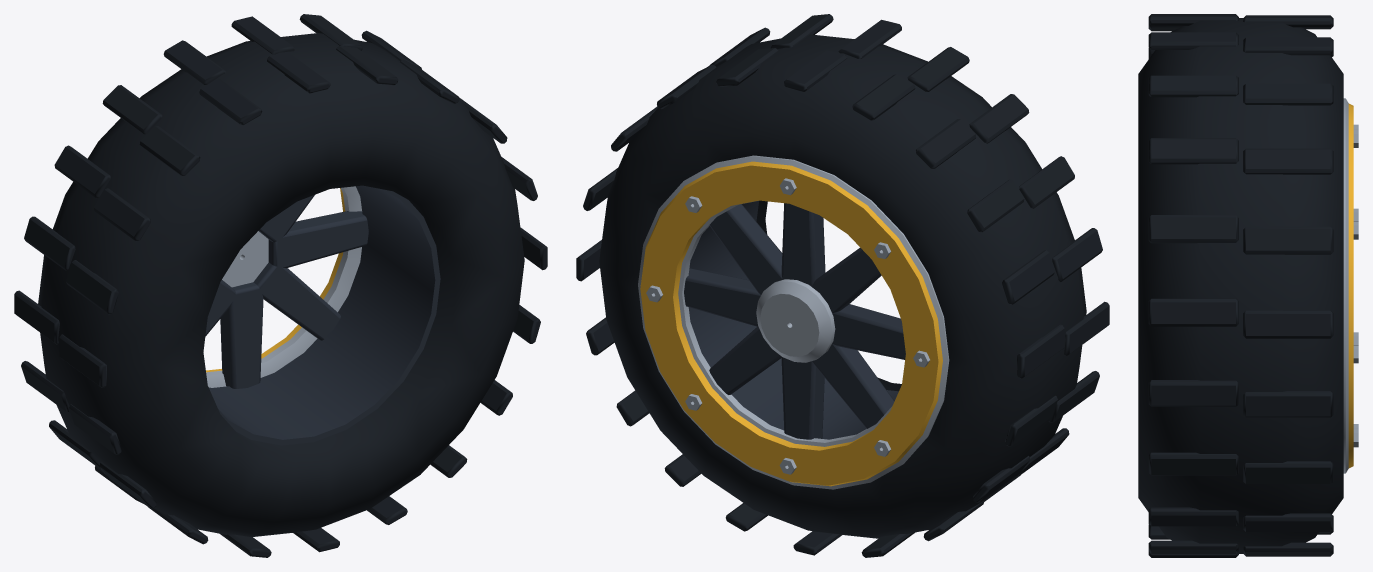
3 views of the same model, side by side, from view 1: azimuth 30°, elevation 25°; view 2: azimuth 150°, elevation 25°; view 3: azimuth 270°, elevation 25° (orthographic). The views are drawn at different scales.
Visible parts, largest first — view 1: W10_Tire, W10_Rim_barrel, W10_Beadlock_arm_6, W10_Beadlock_arm_0, W10_Beadlock_arm_7, W10_Rim_outer_lip, W10_Tread_17_-1, W10_Tread_18_-1, W10_Axle_cap, W10_Tread_17_1, W10_Tread_18_1, W10_Tread_16_-1 (+22 smaller); view 2: W10_Tire, W10_Beadlock_retaining_ring, W10_Rim_outer_lip, W10_Rim_barrel, W10_Axle_cap, W10_Beadlock_arm_1, W10_Beadlock_arm_5, W10_Beadlock_arm_6, W10_Beadlock_arm_0, W10_Beadlock_arm_2, W10_Beadlock_arm_4, W10_Beadlock_arm_7 (+27 smaller); view 3: W10_Tire, W10_Tread_4_-1, W10_Tread_3_1, W10_Tread_4_1, W10_Tread_3_-1, W10_Tread_5_-1, W10_Tread_2_1, W10_Tread_5_1, W10_Tread_2_-1, W10_Rim_outer_lip, W10_Beadlock_retaining_ring, W10_Tread_6_-1 (+12 smaller).
Boxes of the visible parts, bbox=[...] form: W10_Tire: bbox=[38, 33, 524, 536]; W10_Rim_barrel: bbox=[209, 185, 440, 445]; W10_Beadlock_arm_6: bbox=[220, 282, 263, 388]; W10_Beadlock_arm_0: bbox=[268, 211, 368, 268]; W10_Beadlock_arm_7: bbox=[253, 262, 340, 340]; W10_Rim_outer_lip: bbox=[206, 186, 361, 387]; W10_Tread_17_-1: bbox=[94, 188, 150, 241]; W10_Tread_18_-1: bbox=[139, 126, 200, 175]; W10_Axle_cap: bbox=[222, 231, 268, 287]; W10_Tread_17_1: bbox=[54, 145, 110, 198]; W10_Tread_18_1: bbox=[102, 85, 162, 134]; W10_Tread_16_-1: bbox=[66, 260, 118, 314]; W10_Tire: bbox=[599, 34, 1086, 538]; W10_Beadlock_retaining_ring: bbox=[640, 161, 942, 486]; W10_Rim_outer_lip: bbox=[638, 155, 949, 489]; W10_Rim_barrel: bbox=[688, 201, 898, 439]; W10_Axle_cap: bbox=[756, 279, 835, 362]; W10_Beadlock_arm_1: bbox=[709, 204, 782, 294]; W10_Beadlock_arm_5: bbox=[812, 343, 894, 428]; W10_Beadlock_arm_6: bbox=[781, 356, 824, 439]; W10_Beadlock_arm_0: bbox=[684, 268, 760, 326]; W10_Beadlock_arm_2: bbox=[781, 203, 825, 286]; W10_Beadlock_arm_4: bbox=[832, 304, 905, 359]; W10_Beadlock_arm_7: bbox=[709, 326, 781, 394]; W10_Tire: bbox=[1138, 18, 1343, 553]; W10_Tread_4_-1: bbox=[1148, 298, 1238, 326]; W10_Tread_3_1: bbox=[1243, 226, 1333, 254]; W10_Tread_4_1: bbox=[1243, 310, 1333, 338]; W10_Tread_3_-1: bbox=[1148, 215, 1238, 243]; W10_Tread_5_-1: bbox=[1148, 380, 1238, 406]; W10_Tread_2_1: bbox=[1243, 148, 1333, 174]; W10_Tread_5_1: bbox=[1243, 391, 1333, 417]; W10_Tread_2_-1: bbox=[1148, 138, 1238, 164]; W10_Rim_outer_lip: bbox=[1343, 98, 1348, 473]; W10_Beadlock_retaining_ring: bbox=[1348, 103, 1353, 468]; W10_Tread_6_-1: bbox=[1148, 452, 1238, 475].
Bounding box in the file's own units: 3.64 × 3.64 × 1.48.
